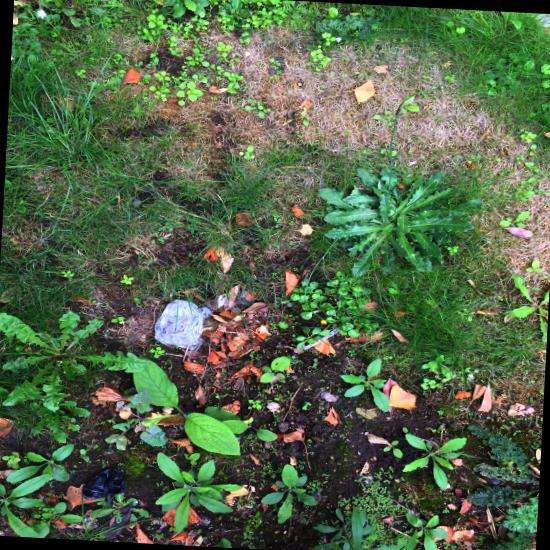Plastic film: (154, 299, 214, 357), (82, 469, 126, 507), (204, 291, 252, 314)
